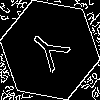Y: (25, 25, 79, 80)
